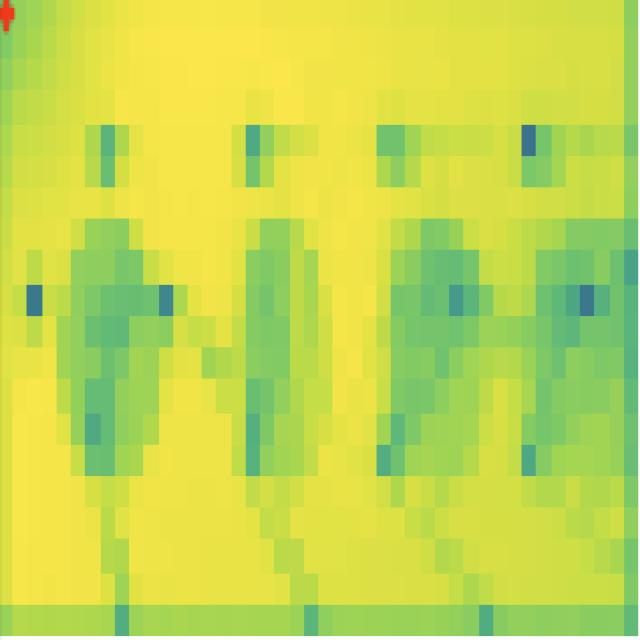Concrete: (56, 216, 172, 483)
Glass: (524, 213, 619, 468)
Metal: (233, 221, 332, 487)
Wood: (381, 216, 484, 491)
